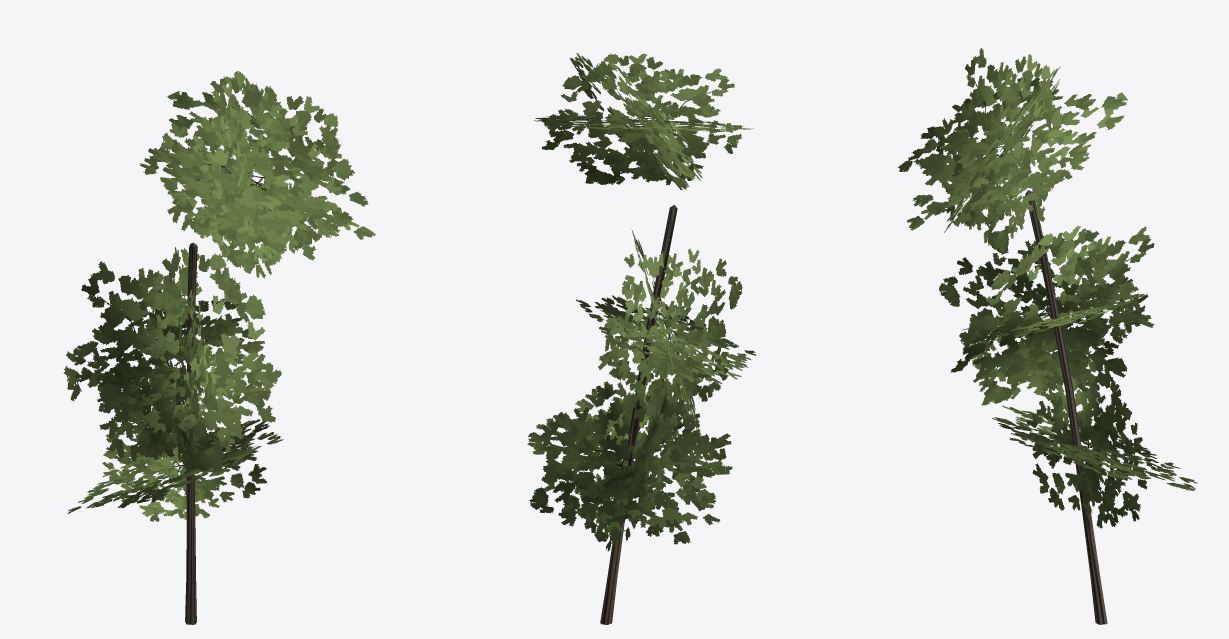
Rendered from seedling-b.lod0.glb.
The picture shows the model from 3 angles, left to right: view 1: azimuth 30°, elevation 25°; view 2: azimuth 150°, elevation 25°; view 3: azimuth 270°, elevation 25°; orthographic projection. The views are drawn at different scales.
Parts seen in each view (by area): view 1: foliage, bark; view 2: foliage, bark; view 3: foliage, bark.
Boxes of the visible parts, x1,y1,x2,y2 form: foliage: [63, 71, 375, 521]; bark: [185, 242, 197, 624]; foliage: [527, 53, 756, 551]; bark: [600, 205, 677, 624]; foliage: [898, 48, 1197, 528]; bark: [1025, 190, 1107, 624].
Bounding box in the file's own units: 0.1879 × 0.35 × 0.1939.
Materials: 2 (2 with a texture image).
